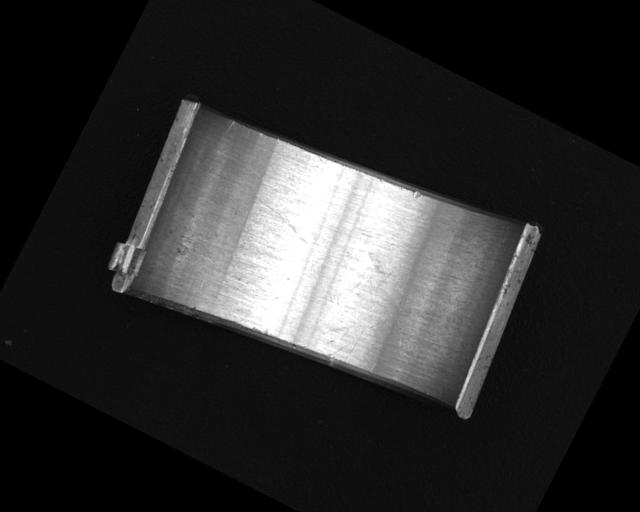blot: (348, 247, 416, 312)
bruise: (411, 189, 423, 200)
nick: (225, 118, 237, 133)
